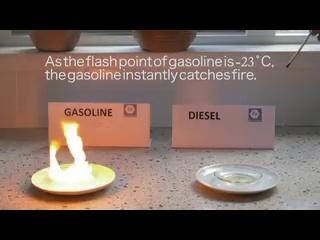Fire: (43, 121, 97, 189)
